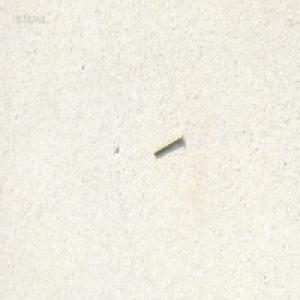Bolt: (152, 131, 184, 156)
